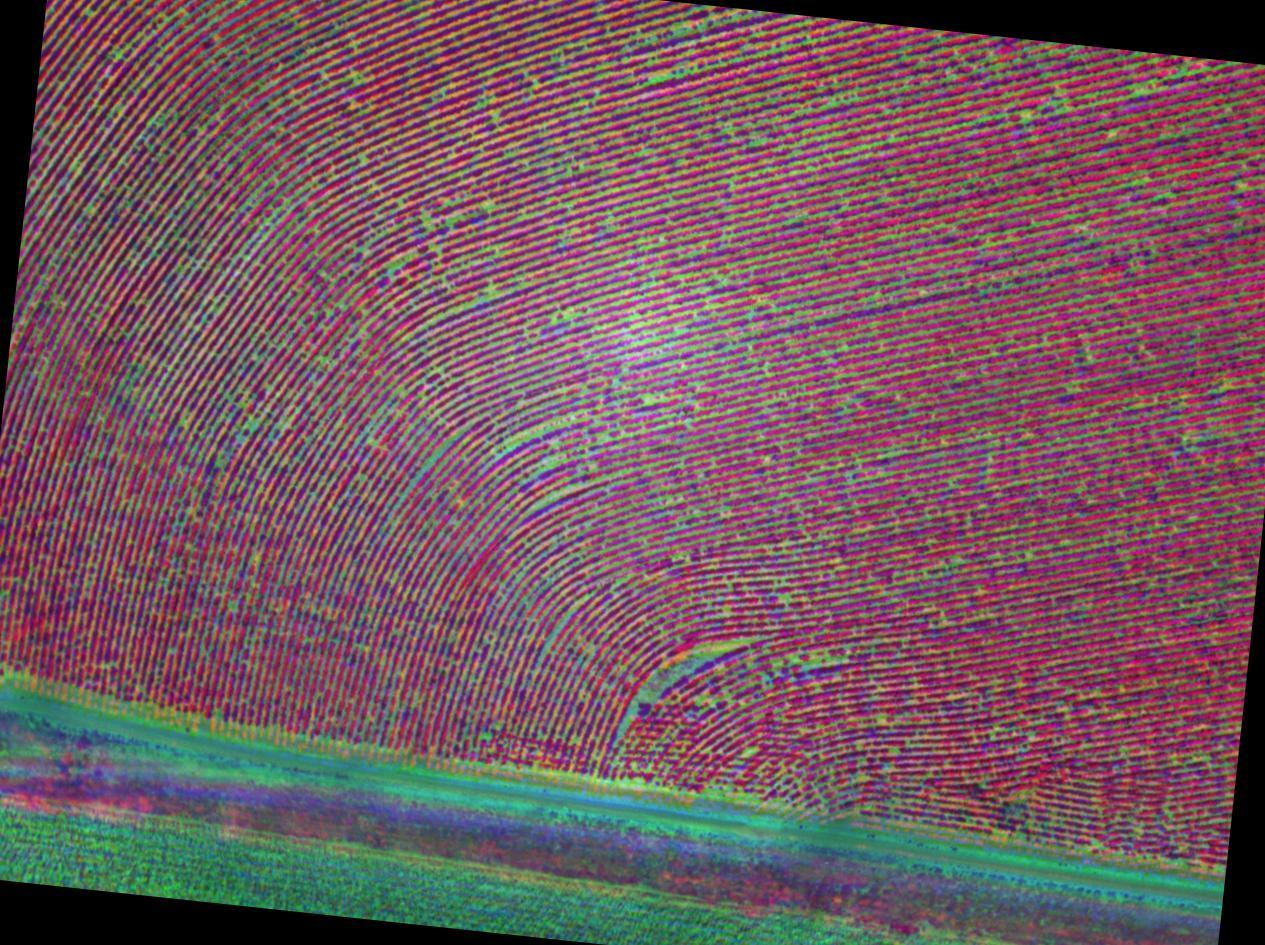dc: (326, 55, 460, 199), (616, 640, 765, 754), (486, 383, 593, 515), (108, 173, 203, 259), (123, 360, 225, 433)
